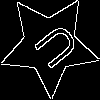U: (24, 20, 82, 78)
